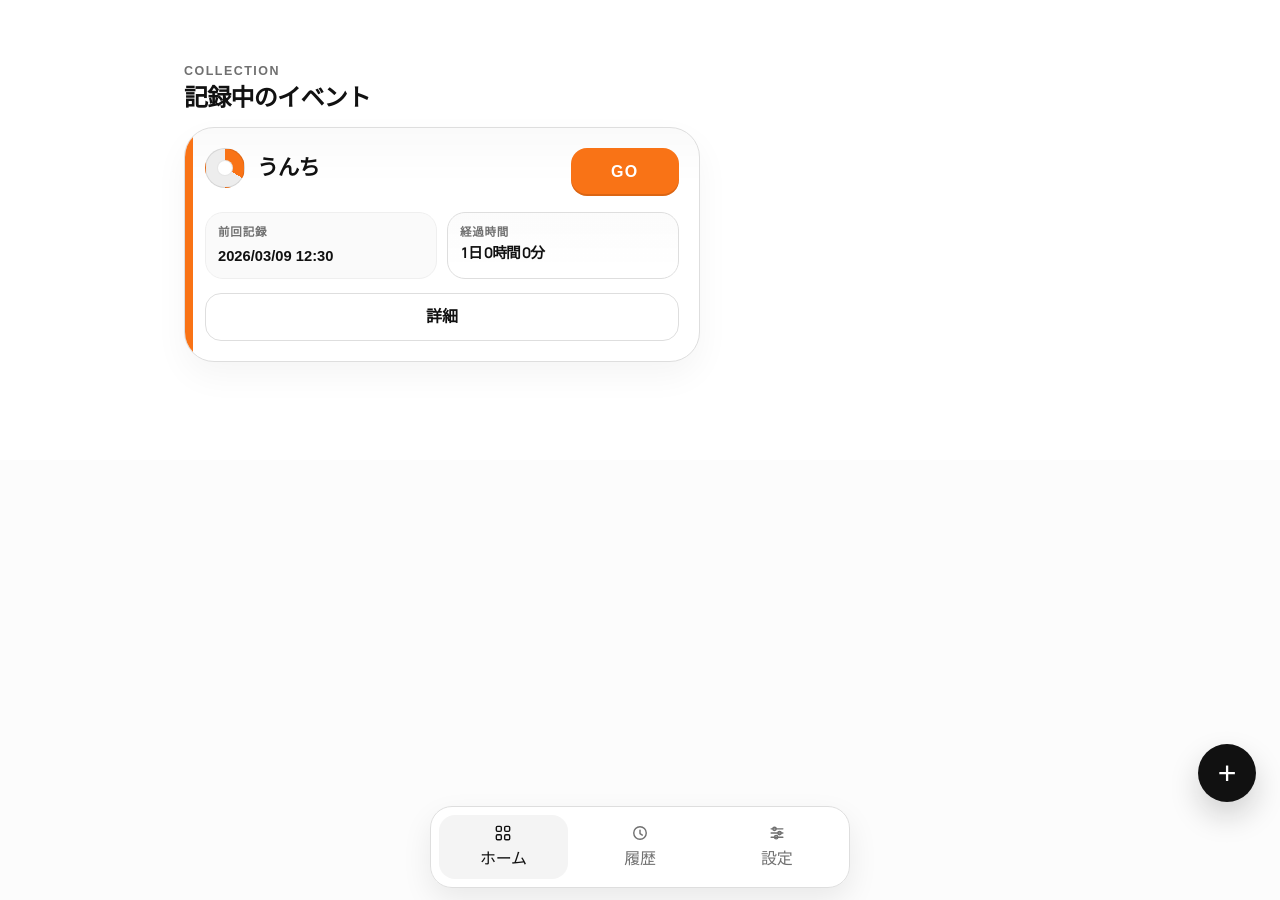
Test: App › renders detail page with collapsible history timeline and calendar marks
What coordinates should you click on to do the following:
click the button "詳細"
I would click on:
 (442, 318)
Its box is left=205, top=294, right=679, bottom=342.
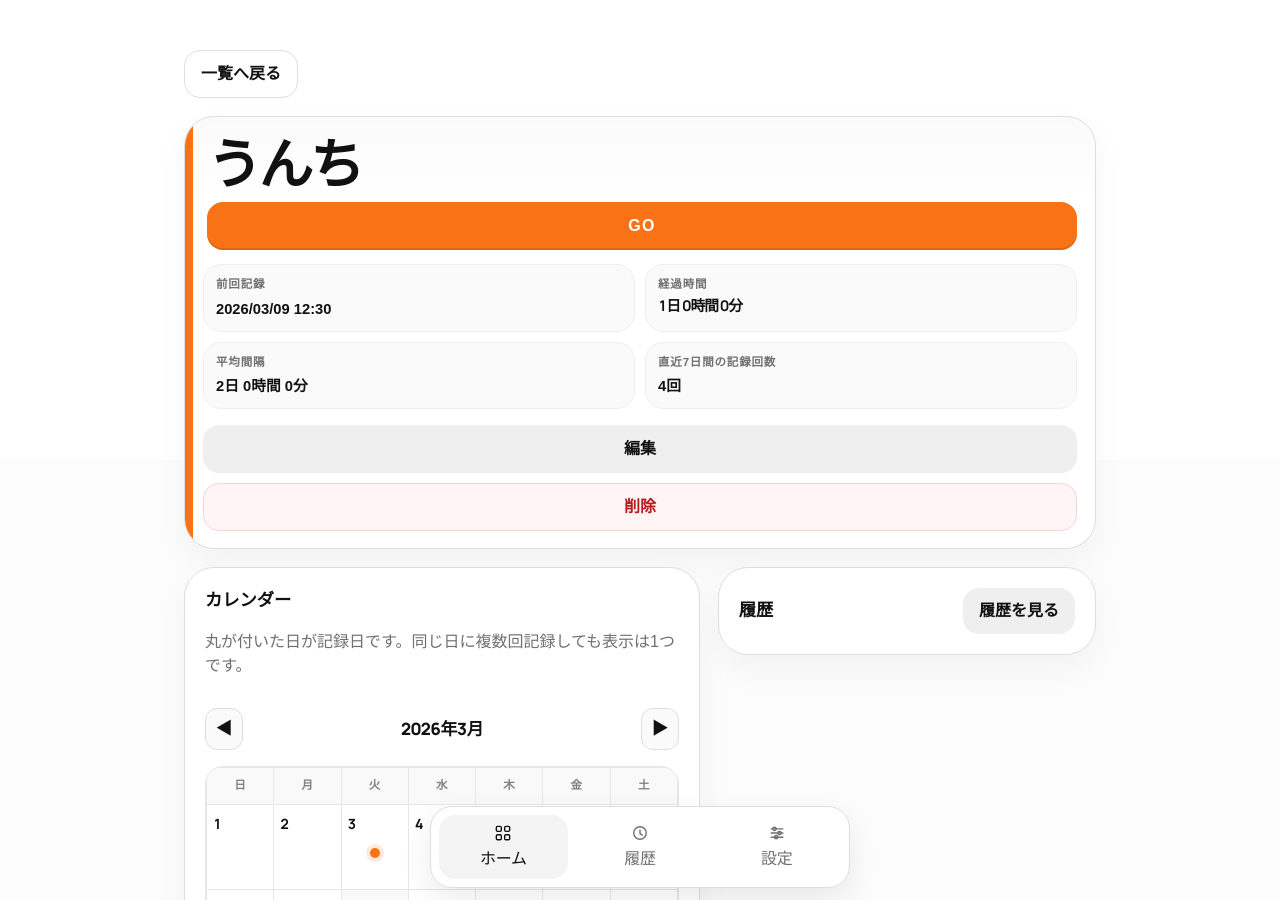
Now the text "平均間隔" is shown, box left=216, top=356, right=265, bottom=368
Now the text "2日 0時間 0分" is shown, box left=216, top=378, right=308, bottom=394
Now the text "4回" is shown, box left=658, top=378, right=681, bottom=394
What coordinates should you click on to do the following:
click the button "履歴を見る"
I would click on:
 (1019, 611)
Its box is left=963, top=588, right=1075, bottom=634.
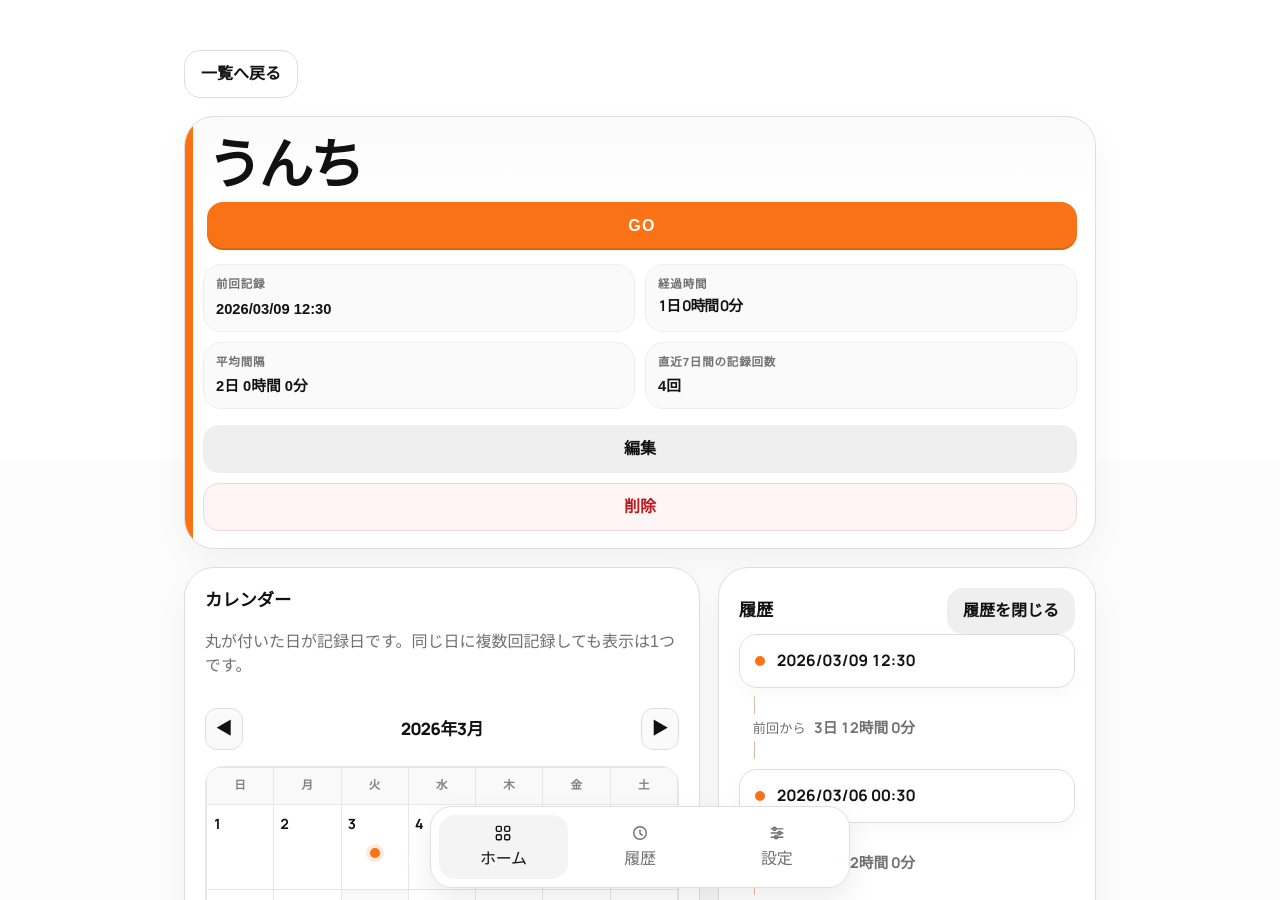
Now the button "履歴を閉じる" is shown, box left=947, top=588, right=1075, bottom=634
Now the text "前回から" is shown, box left=753, top=720, right=806, bottom=737
Now the text "3日 12時間 0分" is shown, box left=814, top=718, right=915, bottom=737
